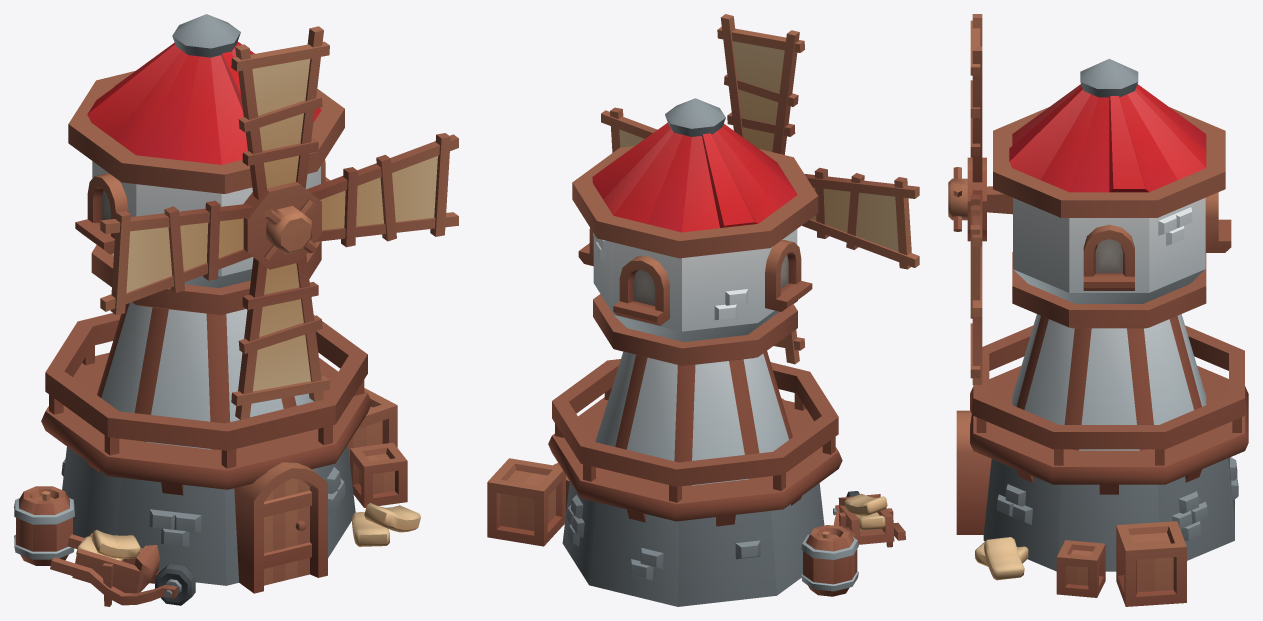
Rendered from windmill_red.glb.
3 renders of one model, left to right at view 1: azimuth 30°, elevation 25°; view 2: azimuth 150°, elevation 25°; view 3: azimuth 270°, elevation 25°, orthographic. The views are drawn at different scales.
Parts seen in each view (by area): view 1: windmill_red; view 2: windmill_red; view 3: windmill_red.
Part boxes in pixels (bbox=[...]): windmill_red: bbox=[14, 14, 458, 606]; windmill_red: bbox=[487, 14, 919, 606]; windmill_red: bbox=[948, 14, 1248, 606].
Bounding box in the file's own units: 0.5629 × 0.7289 × 0.4083.
1 material, 1 textured.
